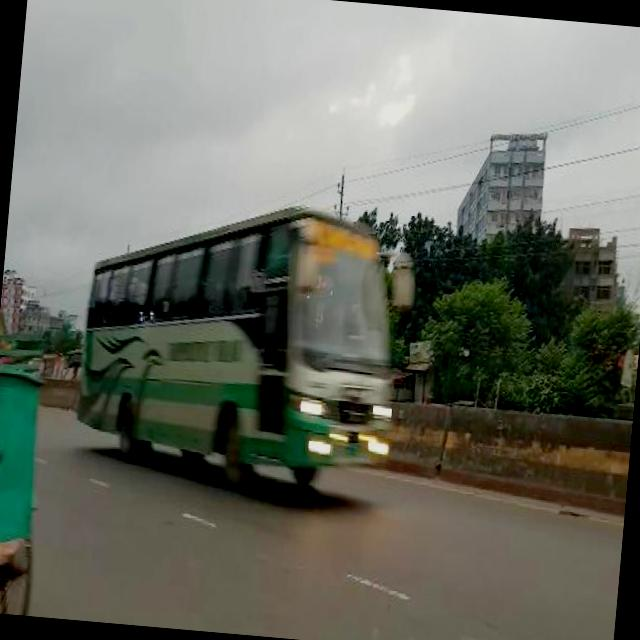bus: (73, 192, 424, 500)
